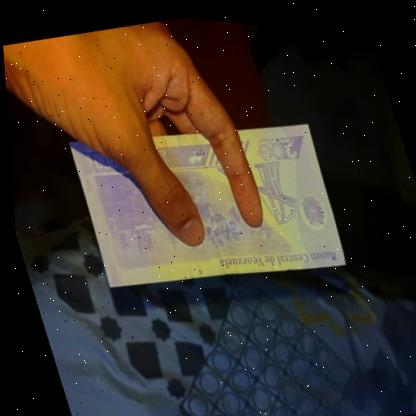two_hundred-back-vef: (60, 81, 351, 317)
